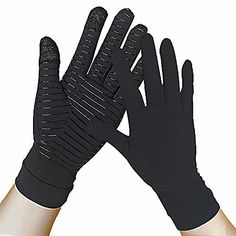gloves: (14, 6, 156, 209), (96, 33, 220, 230)
